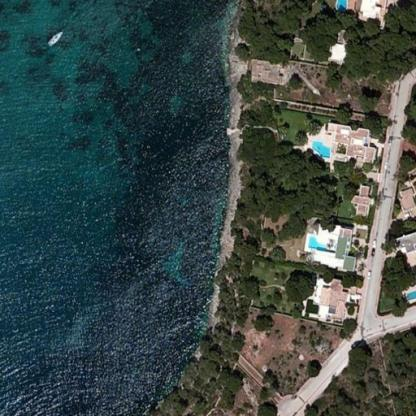ship: (40, 25, 66, 49)
